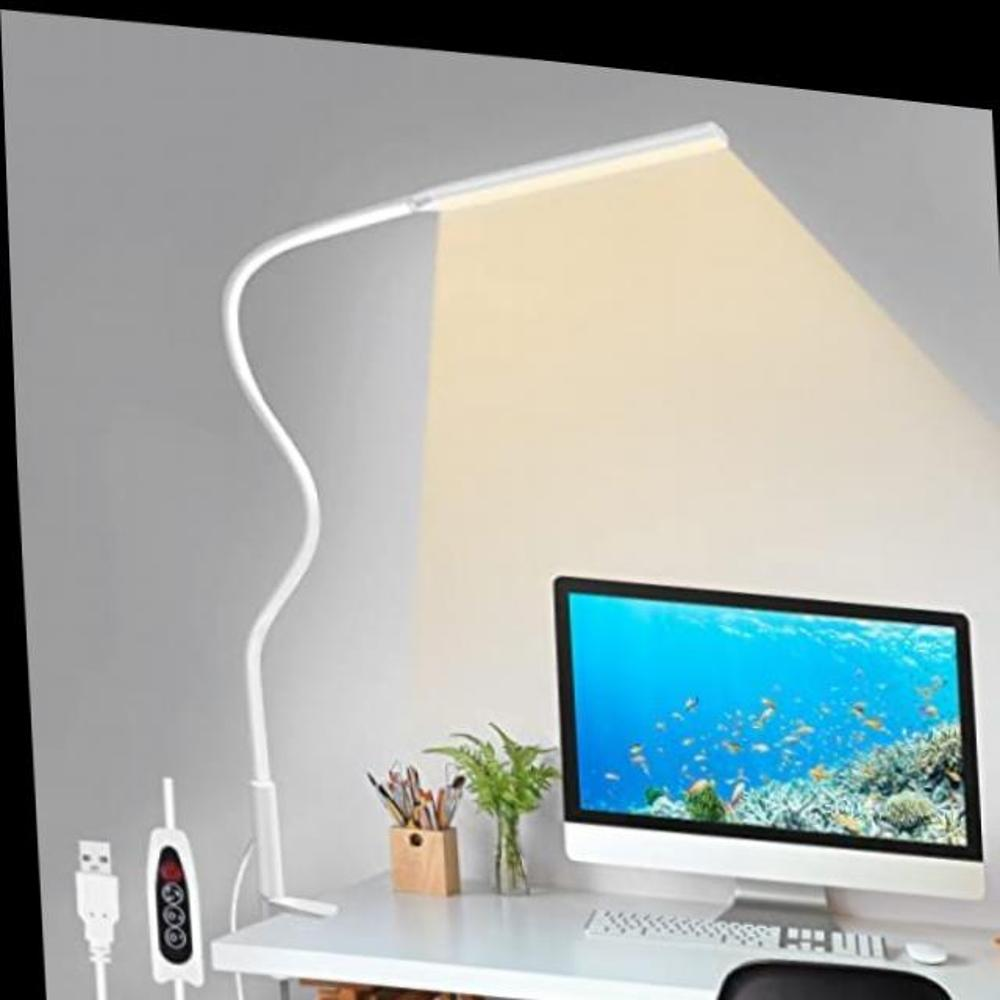shelf: (170, 44, 782, 987)
